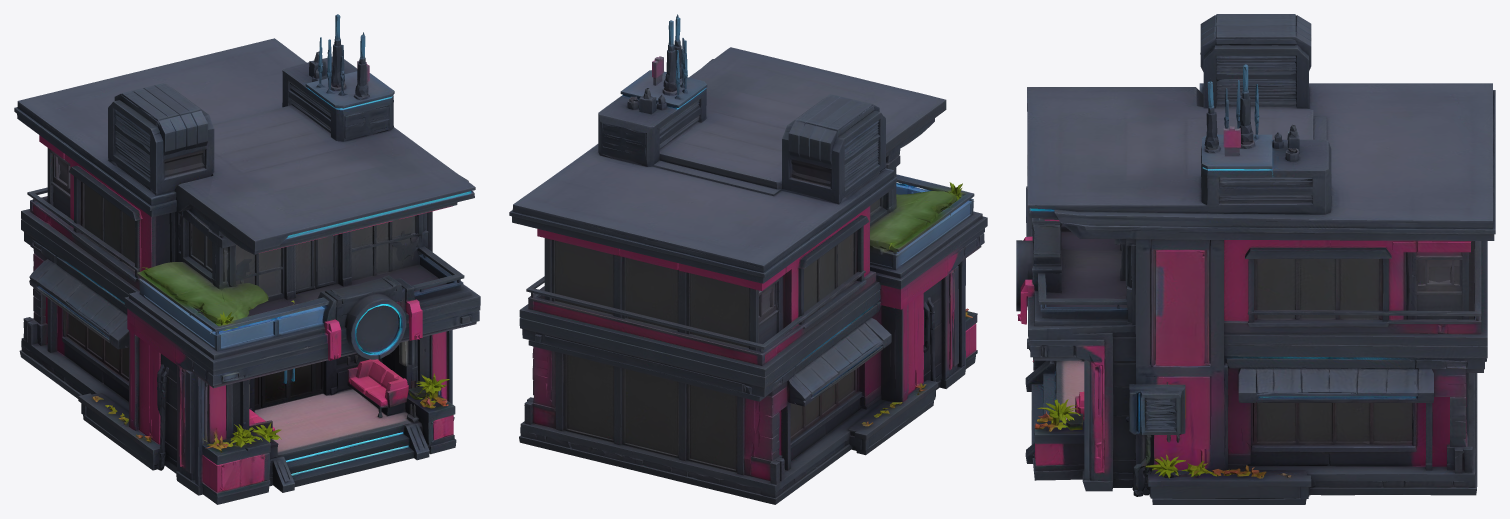
3 views of the same model, side by side, from view 1: azimuth 30°, elevation 25°; view 2: azimuth 150°, elevation 25°; view 3: azimuth 270°, elevation 25° (orthographic). The views are drawn at different scales.
Parts seen in each view (by area): view 1: model; view 2: model; view 3: model.
Boxes of the visible parts, box(x1,y1,x2,y2) form: model: box(14, 14, 480, 504); model: box(509, 14, 987, 504); model: box(1016, 14, 1495, 504).
Size of the model in its own units: 1.51 by 1.77 by 1.89.
1 material, 1 textured.
